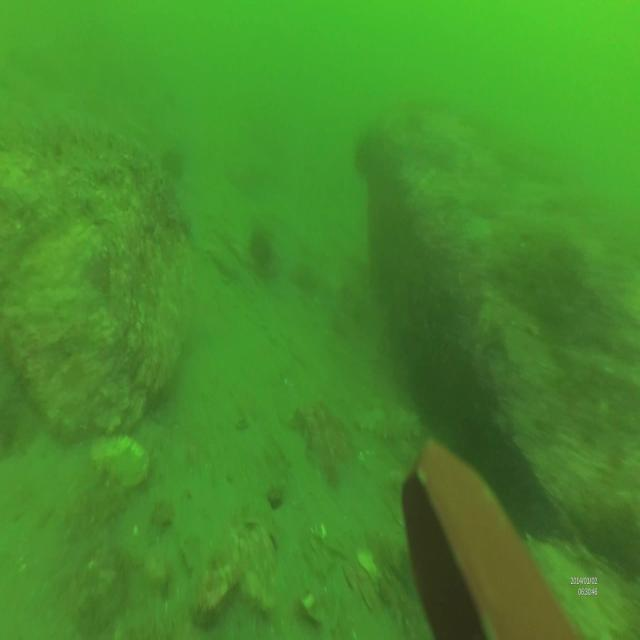echinus: (248, 227, 274, 276), (352, 130, 377, 178), (159, 142, 186, 184)
holothurian: (351, 401, 424, 446)
